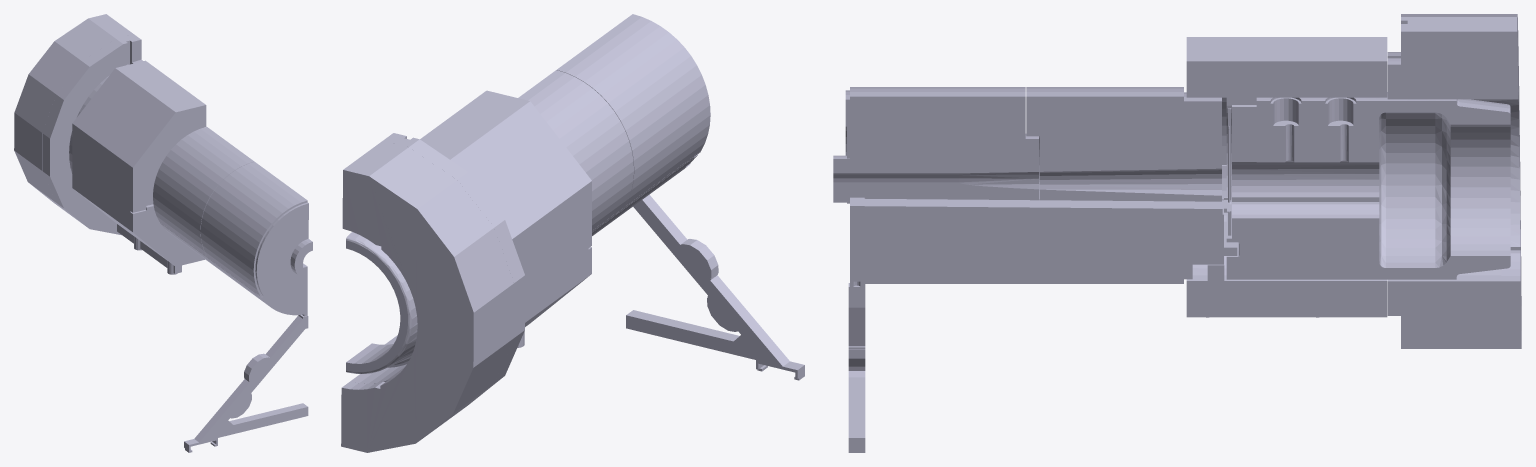
File: Forward-Shielding-SideC-cut2.glb
The picture shows the model from 3 angles, left to right: view 1: azimuth 30°, elevation 25°; view 2: azimuth 150°, elevation 25°; view 3: azimuth 270°, elevation 25°; orthographic projection. The views are drawn at different scales.
Parts seen in each view (by area): view 1: null; view 2: null; view 3: null.
Boxes of the visible parts, <box> form: null: <box>14,14,312,452</box>; null: <box>341,14,804,452</box>; null: <box>833,14,1521,452</box>.
Size of the model in its own units: 3.42 by 7.18 by 10.31.
